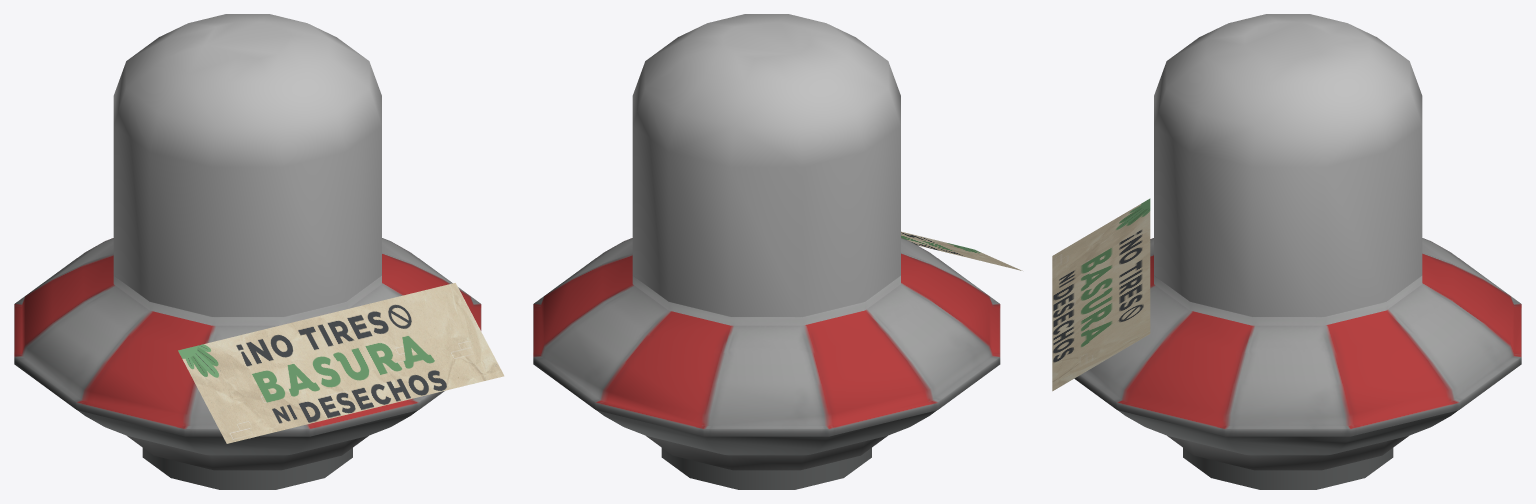
Rendered from UFO.fbx.
The picture shows the model from 3 angles, left to right: view 1: azimuth 30°, elevation 25°; view 2: azimuth 150°, elevation 25°; view 3: azimuth 270°, elevation 25°; orthographic projection.
Parts seen in each view (by area): view 1: Cylinder; view 2: Cylinder; view 3: Cylinder.
Part boxes in pixels (bbox=[...]): Cylinder: bbox=[14, 14, 504, 489]; Cylinder: bbox=[533, 14, 1022, 489]; Cylinder: bbox=[1052, 14, 1521, 489].
Size of the model in its own units: 504 by 482 by 506.
Materials: 3 (3 with a texture image).
